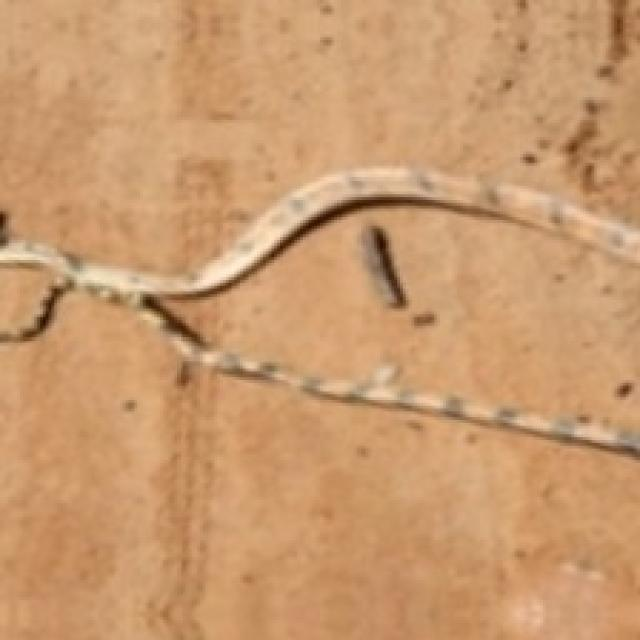dog-toothed cat snake: (0, 168, 640, 454)
